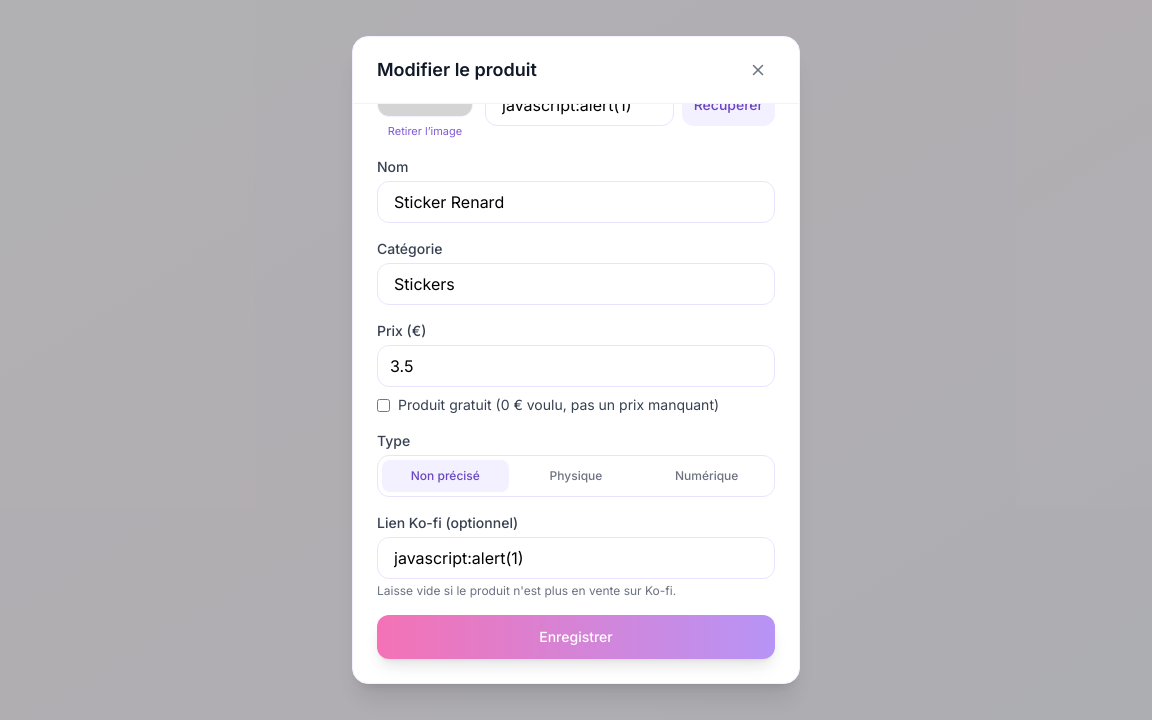
it: ProductForm : modification et resynchronisation › refuse d'enregistrer un lien Ko-fi qui n'est pas en https
(page scrolled)
What coordinates should you click on to do the following:
click the button "Enregistrer"
I would click on:
 (576, 637)
Its box is [377,615,775,659].
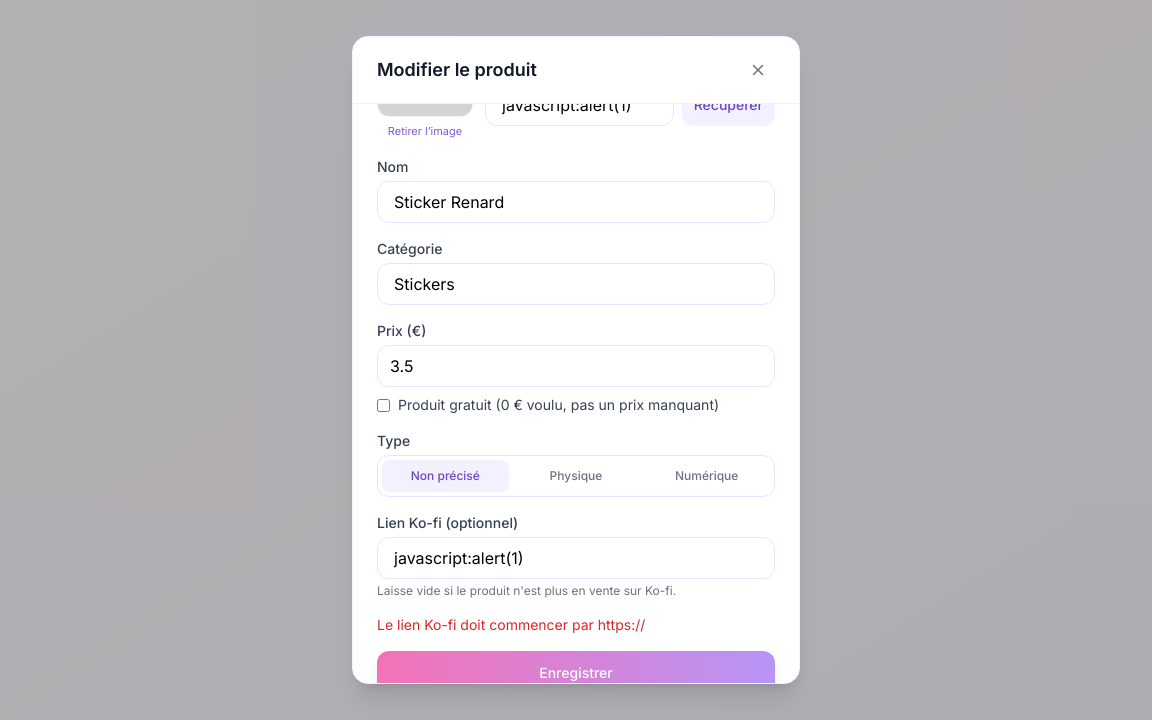
Expected: the text "Le lien Ko-fi doit commencer par https://" is shown, [377,616,645,633]
